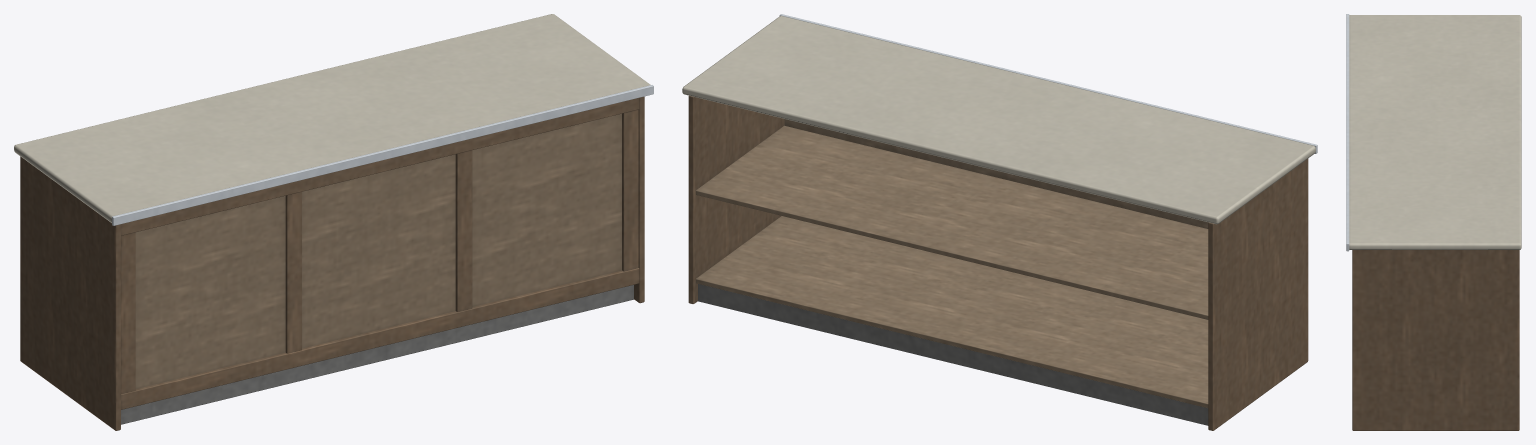
File: Shop_Counter.fbx
3 renders of one model, left to right at view 1: azimuth 30°, elevation 25°; view 2: azimuth 150°, elevation 25°; view 3: azimuth 270°, elevation 25°, orthographic. The views are drawn at different scales.
Parts seen in each view (by area): view 1: Shop_Counter; view 2: Shop_Counter; view 3: Shop_Counter.
Boxes of the visible parts, box(x1,y1,x2,y2) form: Shop_Counter: box(14, 14, 653, 430); Shop_Counter: box(682, 14, 1317, 430); Shop_Counter: box(1346, 14, 1521, 430).
Bounding box in the file's own units: 2.86 × 1.1 × 0.921.
